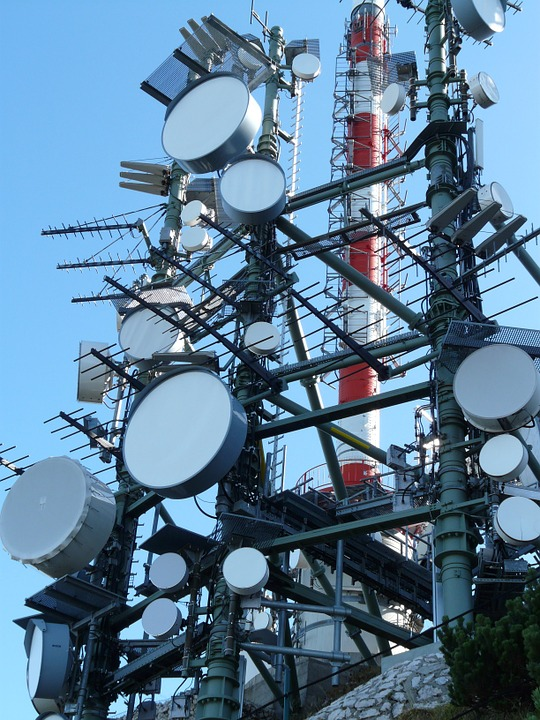b: (125, 370, 247, 492), (2, 462, 117, 576), (162, 75, 259, 171), (450, 342, 540, 430), (217, 158, 294, 223), (22, 618, 73, 702), (479, 434, 532, 480), (493, 494, 540, 541), (224, 546, 269, 593), (141, 598, 181, 637), (467, 72, 503, 108), (149, 554, 187, 588), (246, 321, 279, 352), (376, 83, 406, 114), (293, 54, 322, 79)
